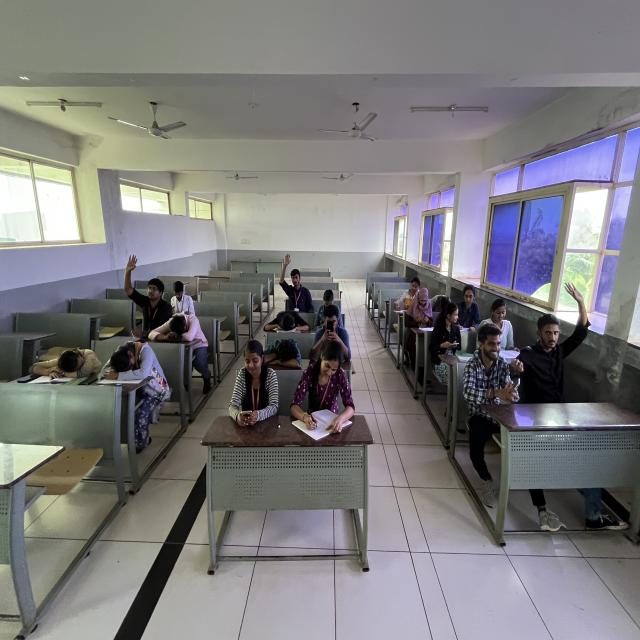Hand Rising: (520, 284, 600, 393), (106, 250, 178, 335), (267, 247, 318, 309)
Reading: (483, 296, 524, 358), (164, 278, 208, 320)
Sleeping: (97, 328, 176, 416), (23, 335, 110, 411), (149, 301, 223, 361), (252, 327, 310, 378), (256, 304, 314, 344), (429, 284, 459, 316)
Using Phone: (216, 335, 282, 445), (311, 308, 365, 354), (432, 303, 472, 357), (313, 284, 357, 330), (407, 289, 438, 334)
Writing: (283, 339, 370, 456), (451, 287, 485, 333), (396, 280, 424, 315)
